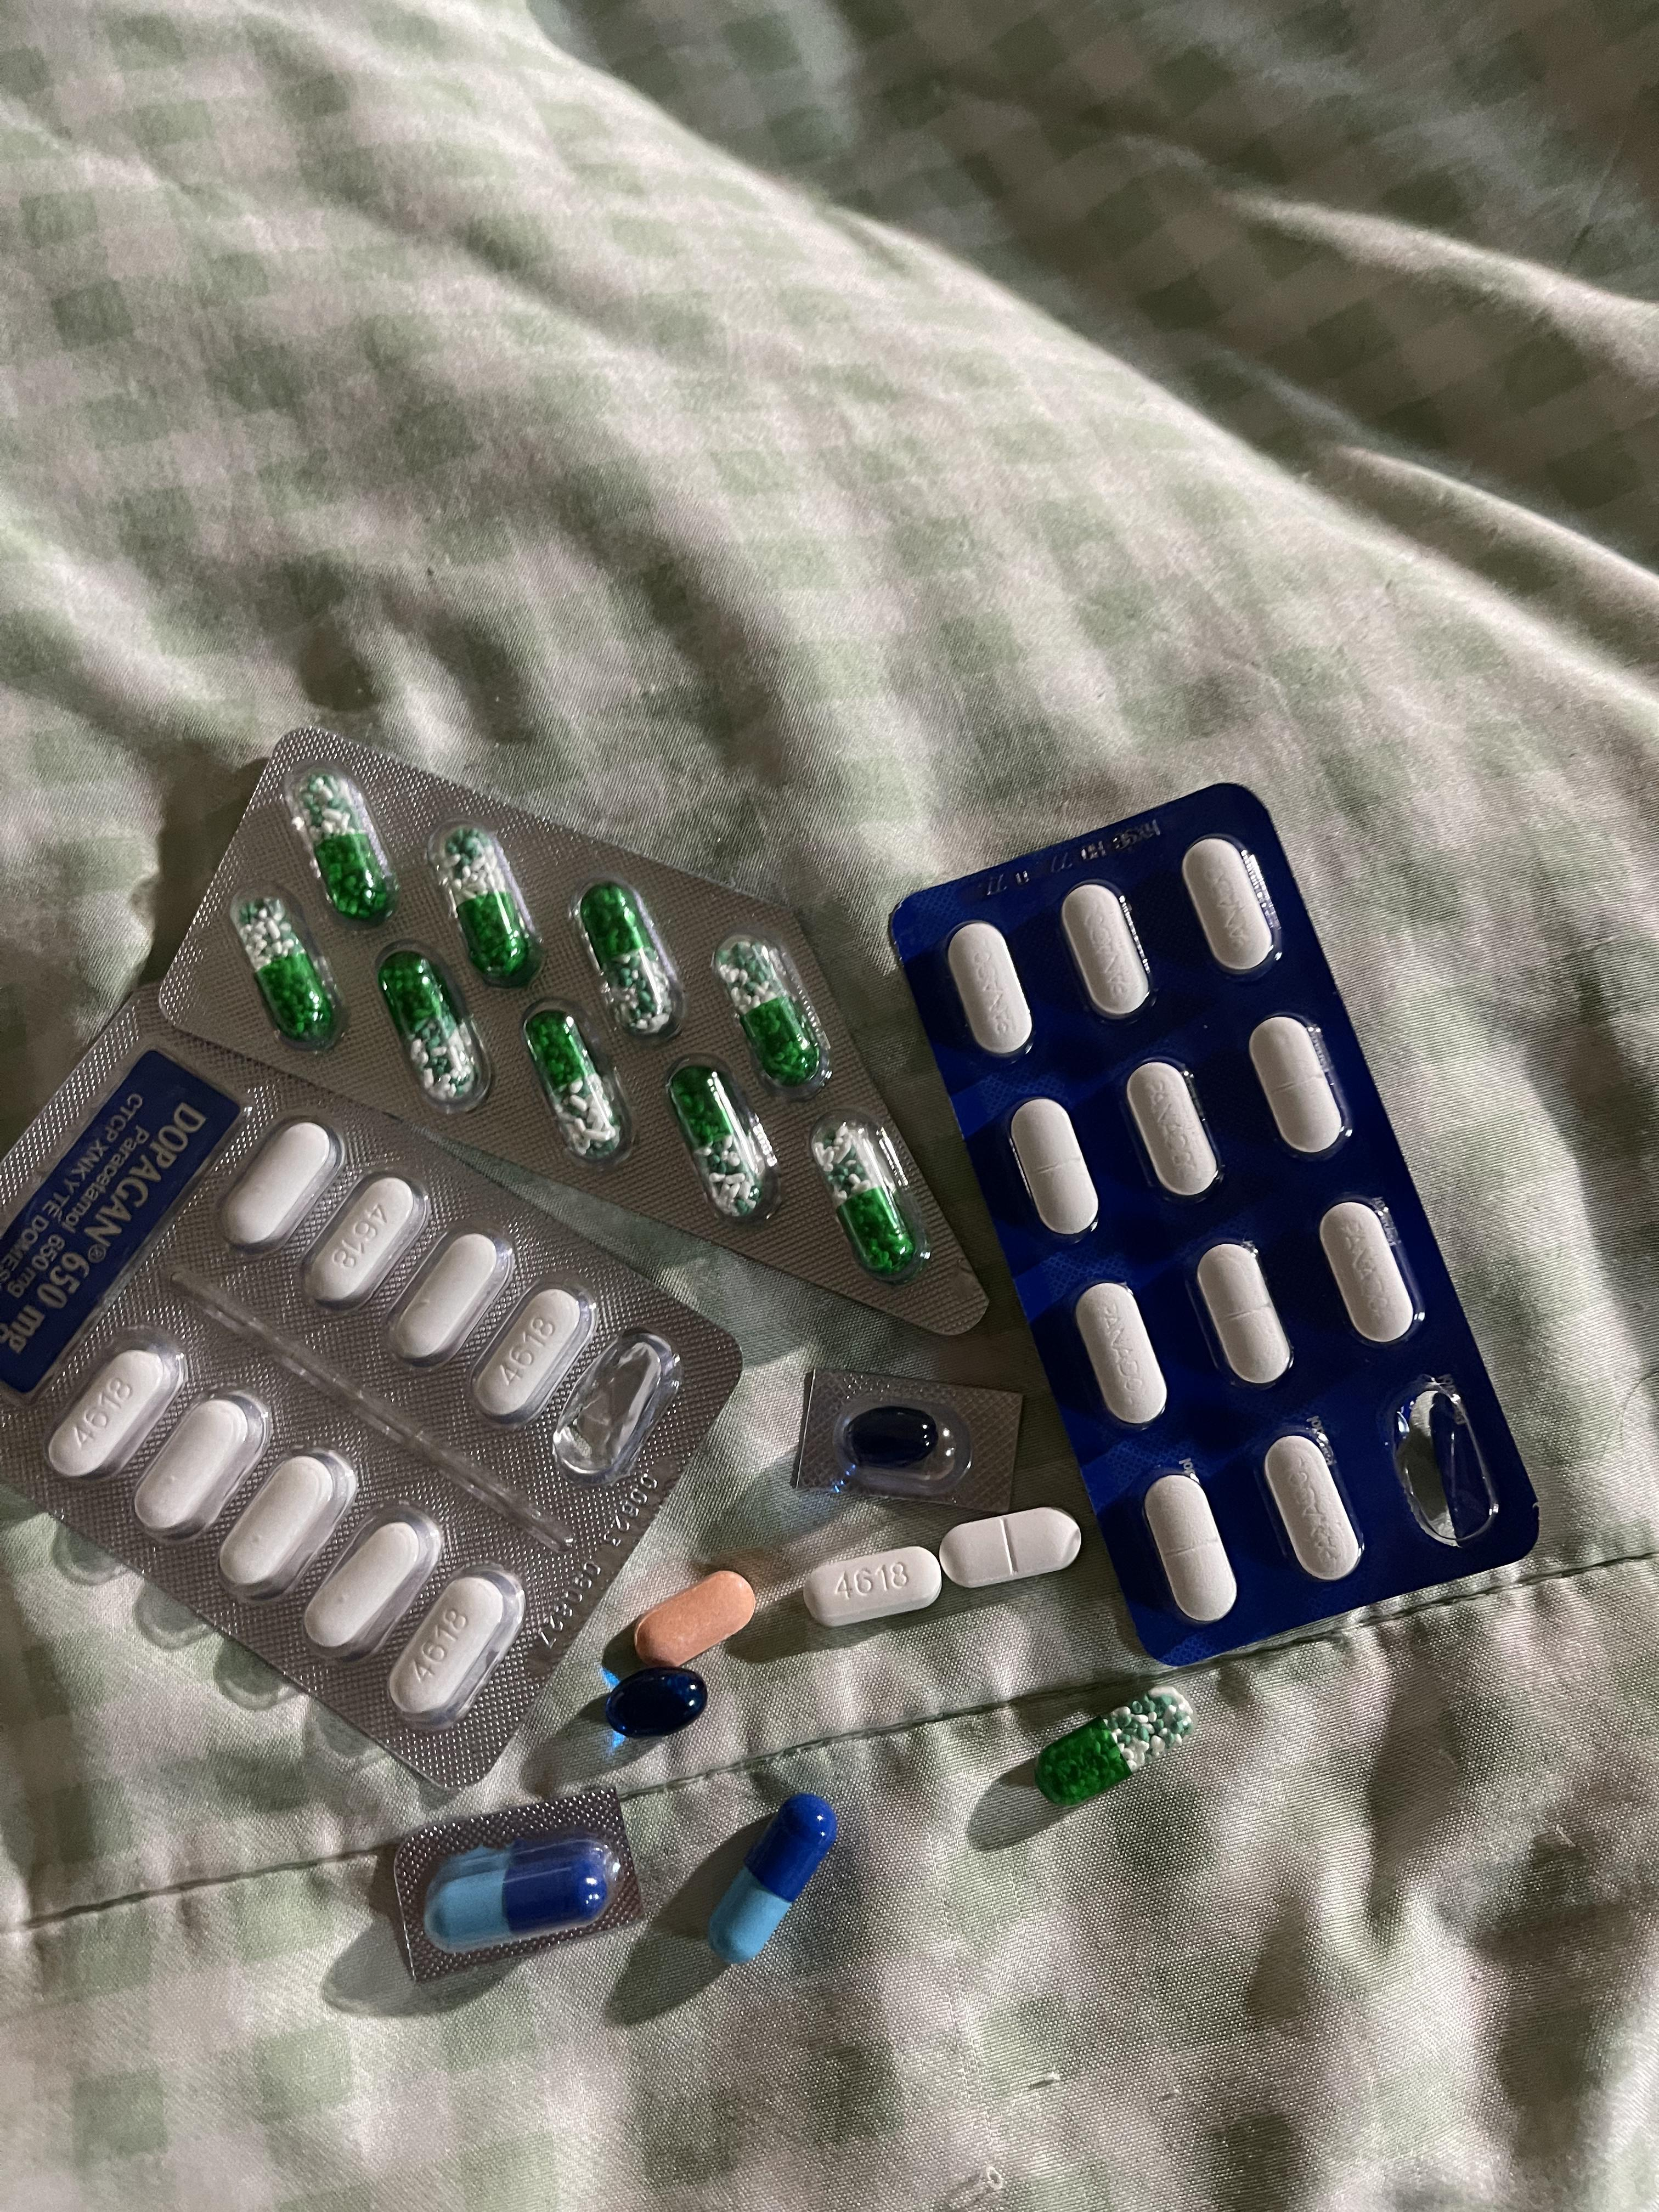Lincomyxin_500mg: (601, 1667, 709, 1742), (845, 1406, 941, 1470)
Loratadine_10mg: (634, 1573, 755, 1663)
Paracetamol_350mg: (1258, 1428, 1363, 1583), (1319, 1200, 1420, 1346), (1192, 1240, 1291, 1388), (1143, 1472, 1239, 1623), (1249, 1015, 1345, 1157), (1124, 1062, 1220, 1202), (1073, 1284, 1164, 1430), (1183, 838, 1277, 975), (1060, 883, 1148, 1021), (1009, 1096, 1094, 1233), (945, 1505, 1082, 1590), (946, 923, 1030, 1059)
Paracetamol_500mg: (387, 1561, 532, 1730), (298, 1496, 443, 1658), (216, 1442, 357, 1601), (132, 1386, 274, 1543), (45, 1331, 186, 1480), (467, 1273, 598, 1425), (300, 1170, 427, 1315), (387, 1223, 512, 1369), (221, 1118, 340, 1252), (803, 1543, 938, 1629)
Paracetamol_650mg: (666, 1062, 777, 1230), (1032, 1684, 1178, 1804), (288, 772, 392, 923), (439, 824, 537, 982), (812, 1118, 910, 1273), (525, 1010, 624, 1162), (378, 946, 476, 1099), (720, 937, 819, 1085), (579, 885, 674, 1038), (235, 895, 331, 1040)
pill: (427, 1832, 622, 1951), (709, 1792, 830, 1963)
